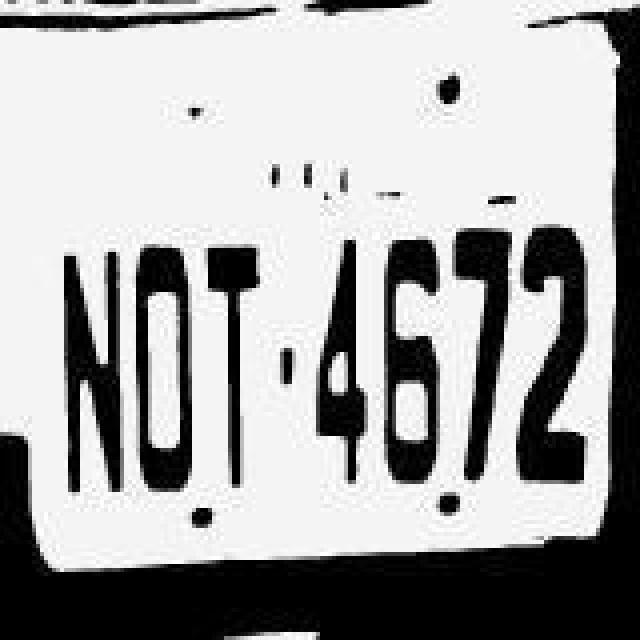2: (514, 214, 598, 490)
4: (302, 234, 378, 486)
6: (368, 234, 448, 486)
7: (444, 220, 516, 484)
N: (44, 244, 132, 500)
O: (122, 236, 198, 500)
T: (204, 228, 276, 492)
